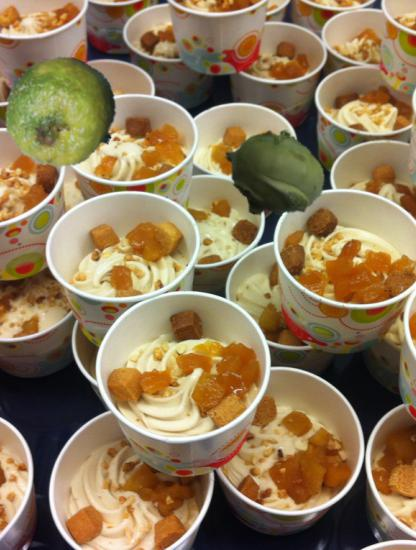Kohlrabi: (219, 120, 327, 228)
Limes: (6, 57, 118, 169)
